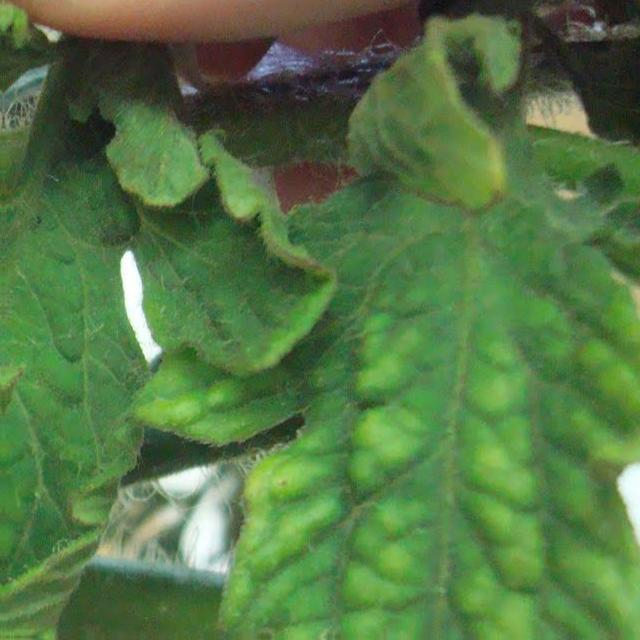Tomato leaf mosaic virus: (165, 113, 640, 640), (0, 118, 321, 640)
